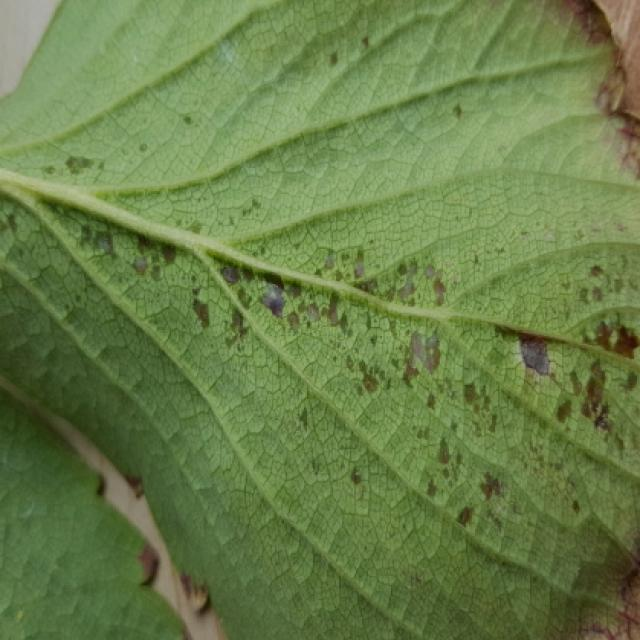Angular Leafspot: (0, 0, 638, 638)
